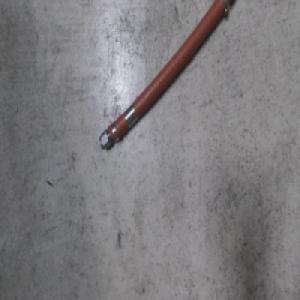Hose: (97, 0, 236, 154)
